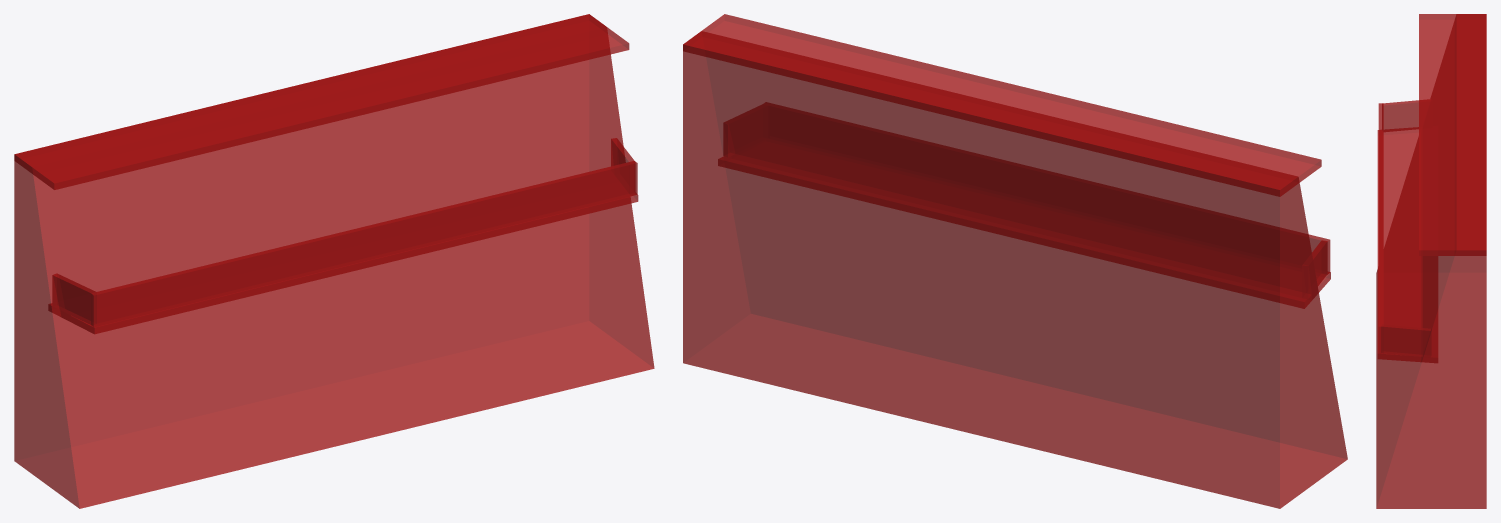
File: SM_Env_Port_Drydock_Small_NoRail_01_Collision.fbx
The picture shows the model from 3 angles, left to right: view 1: azimuth 30°, elevation 25°; view 2: azimuth 150°, elevation 25°; view 3: azimuth 270°, elevation 25°; orthographic projection. The views are drawn at different scales.
Parts seen in each view (by area): view 1: SM_Env_Port_Drydock_Small_NoRail_01_Collision; view 2: SM_Env_Port_Drydock_Small_NoRail_01_Collision; view 3: SM_Env_Port_Drydock_Small_NoRail_01_Collision.
Boxes of the visible parts, box(x1,y1,x2,y2) form: SM_Env_Port_Drydock_Small_NoRail_01_Collision: box(14, 14, 654, 508); SM_Env_Port_Drydock_Small_NoRail_01_Collision: box(683, 14, 1347, 508); SM_Env_Port_Drydock_Small_NoRail_01_Collision: box(1376, 14, 1486, 508).
Size of the model in its own units: 1000 by 510 by 197.
